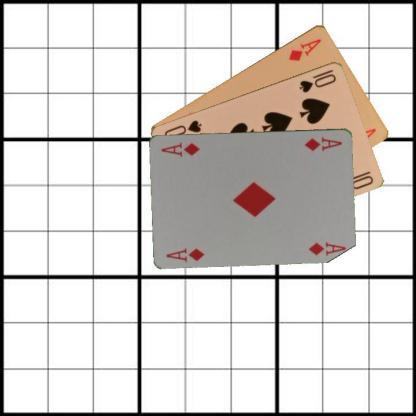10s: (296, 66, 338, 94)
Ad: (286, 36, 322, 62), (302, 134, 344, 152), (164, 245, 206, 263)
